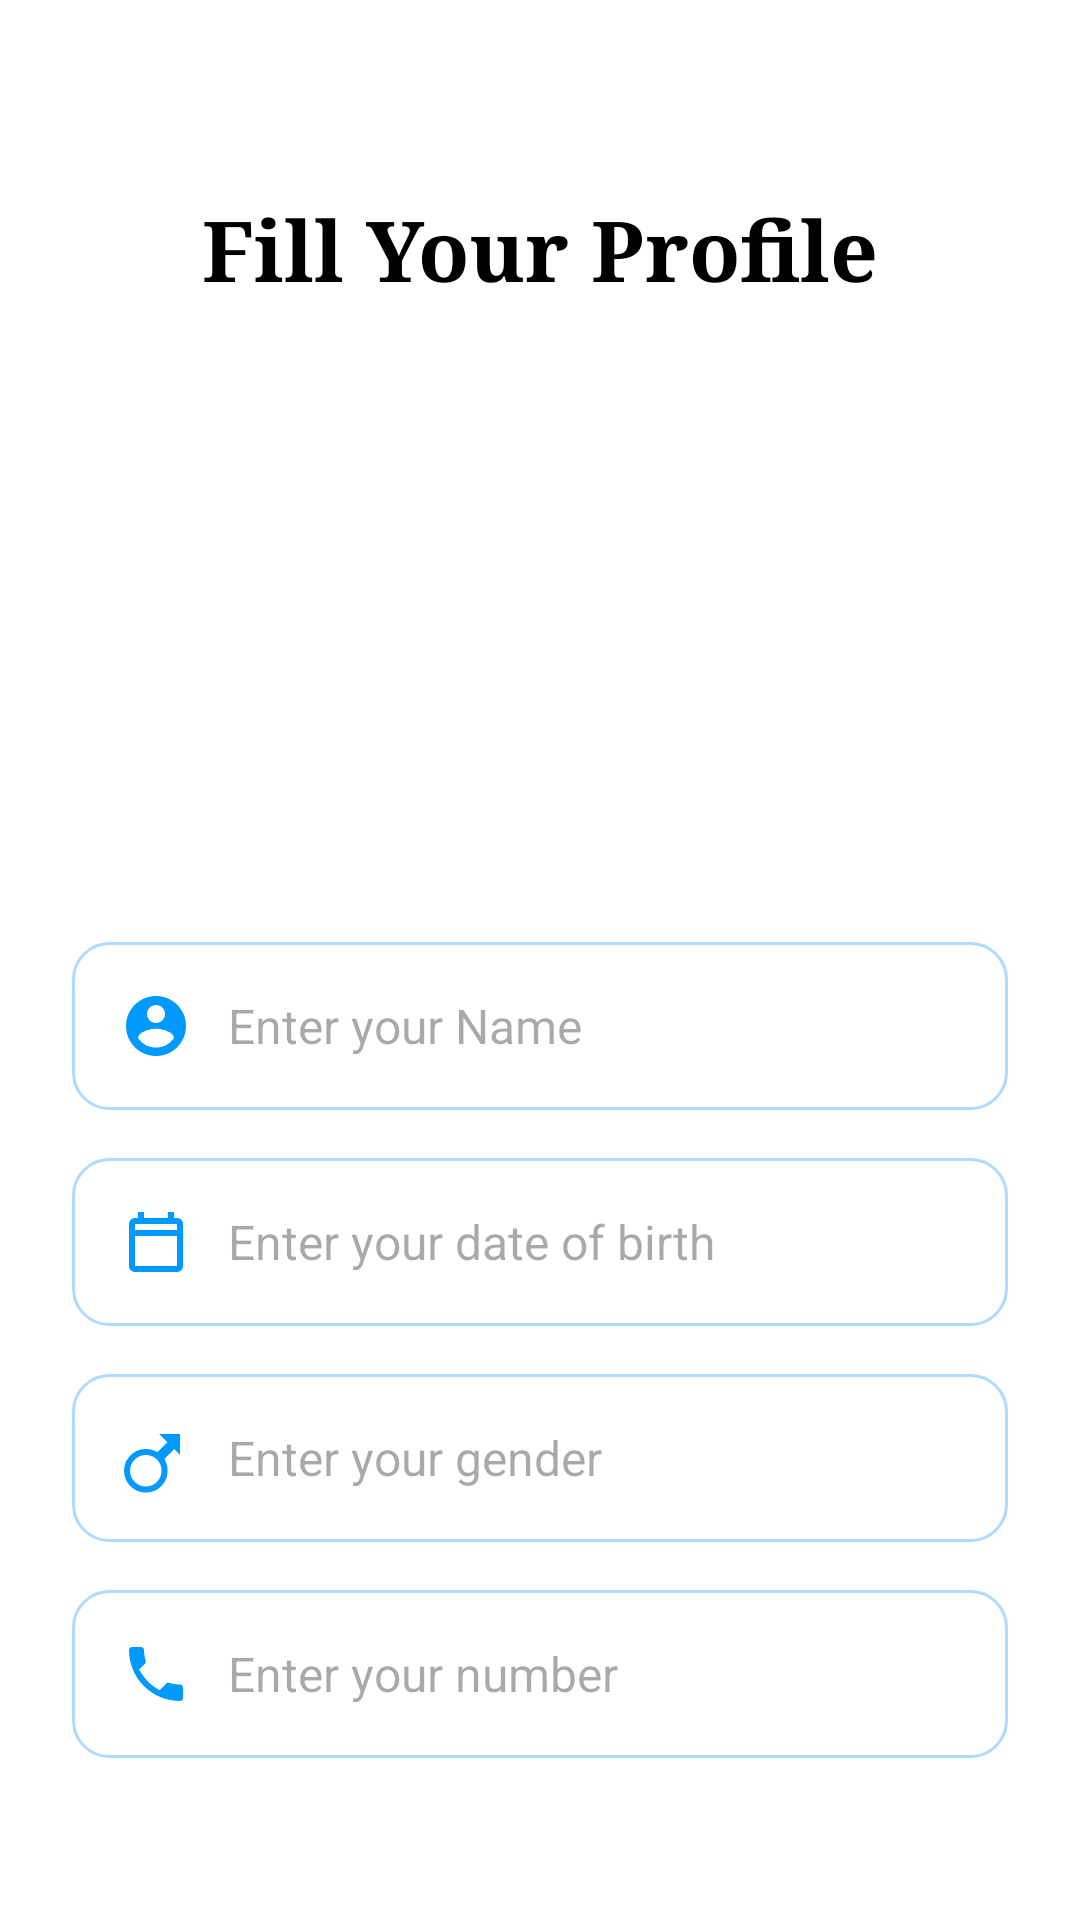

Named icons in this screenshot (1080x1920) and their bounding boxes, [x1=x1, y1=y1, x2=x2, y2=y2]:
calendar: [x1=129, y1=1212, x2=183, y2=1272]
phone profile: [x1=129, y1=1647, x2=183, y2=1701]
user: [x1=126, y1=996, x2=186, y2=1056]
